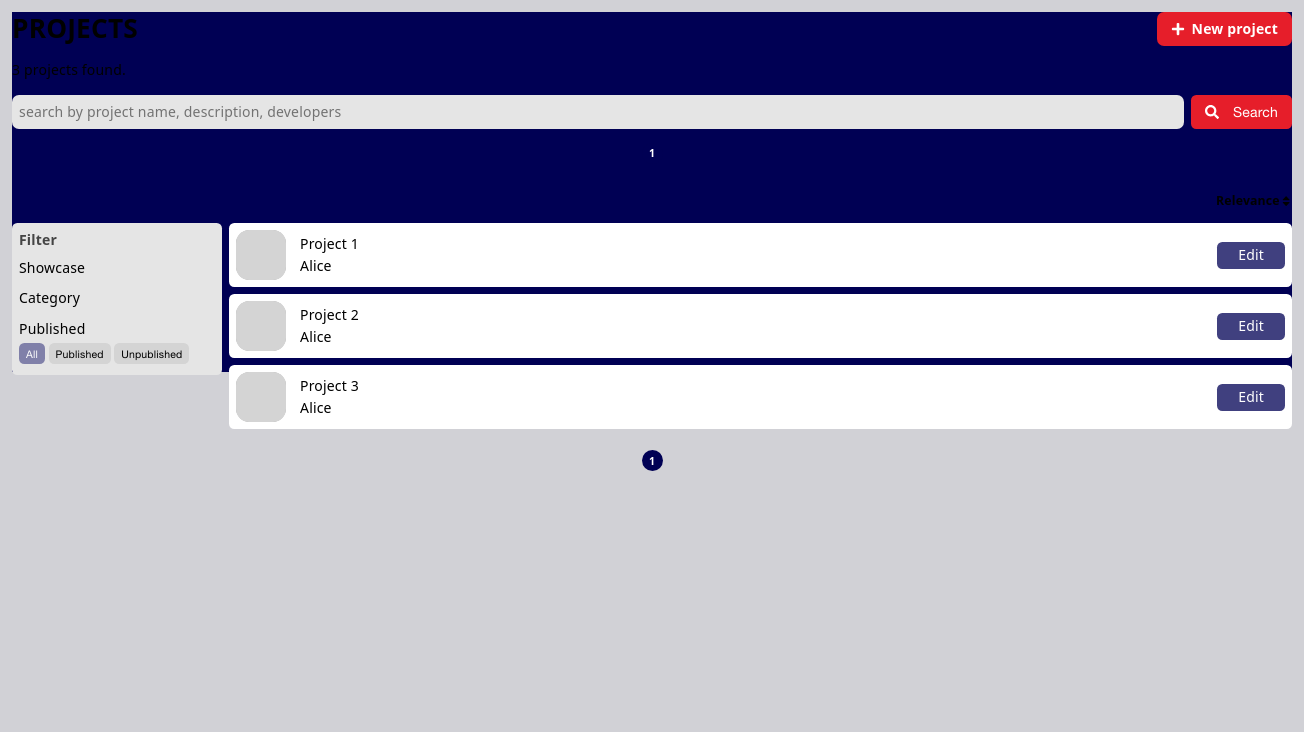
Test: ProjectList › searching › searches for the typed term and puts it in the address
Expected: the text "3 projects found." is shown, 12,60 -> 126,79
Type "maps" into the field.
click(598, 112); type("maps")  # box 12,95 -> 1184,129
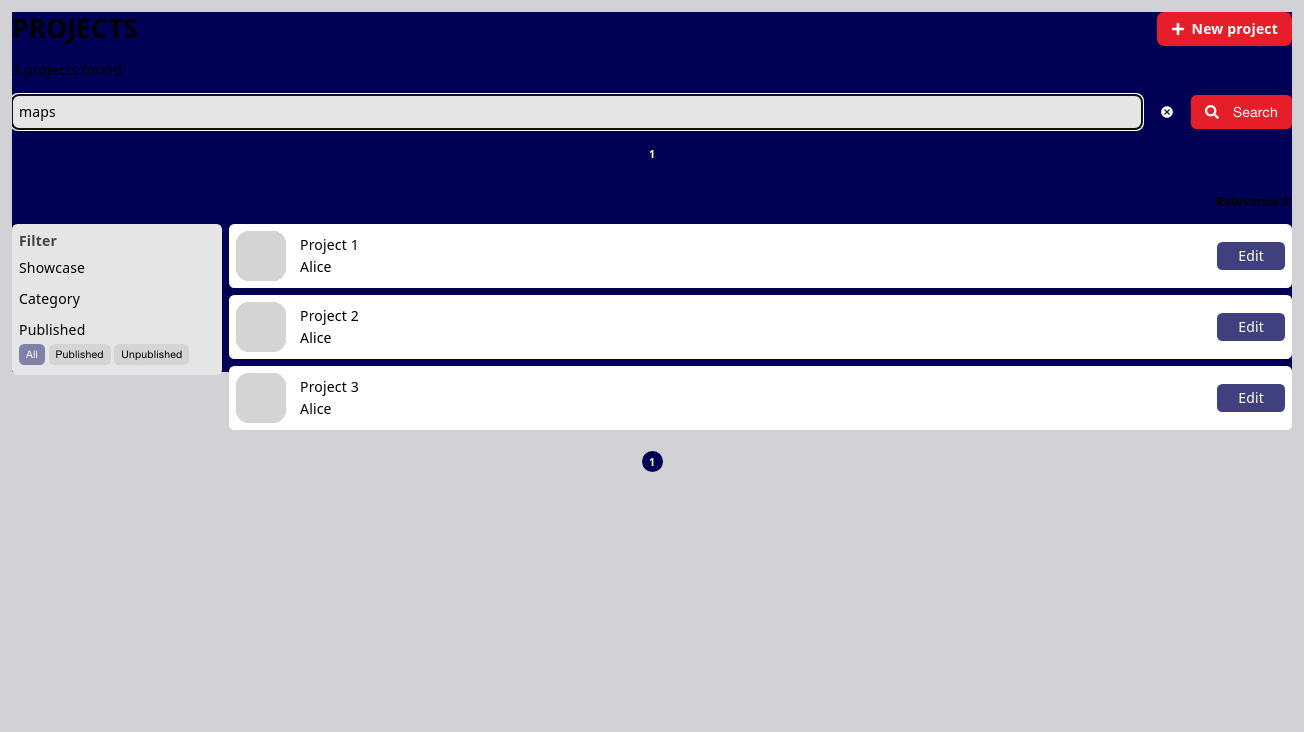
Click the button "Search".
click(1242, 112)  # box 1191,95 -> 1292,129
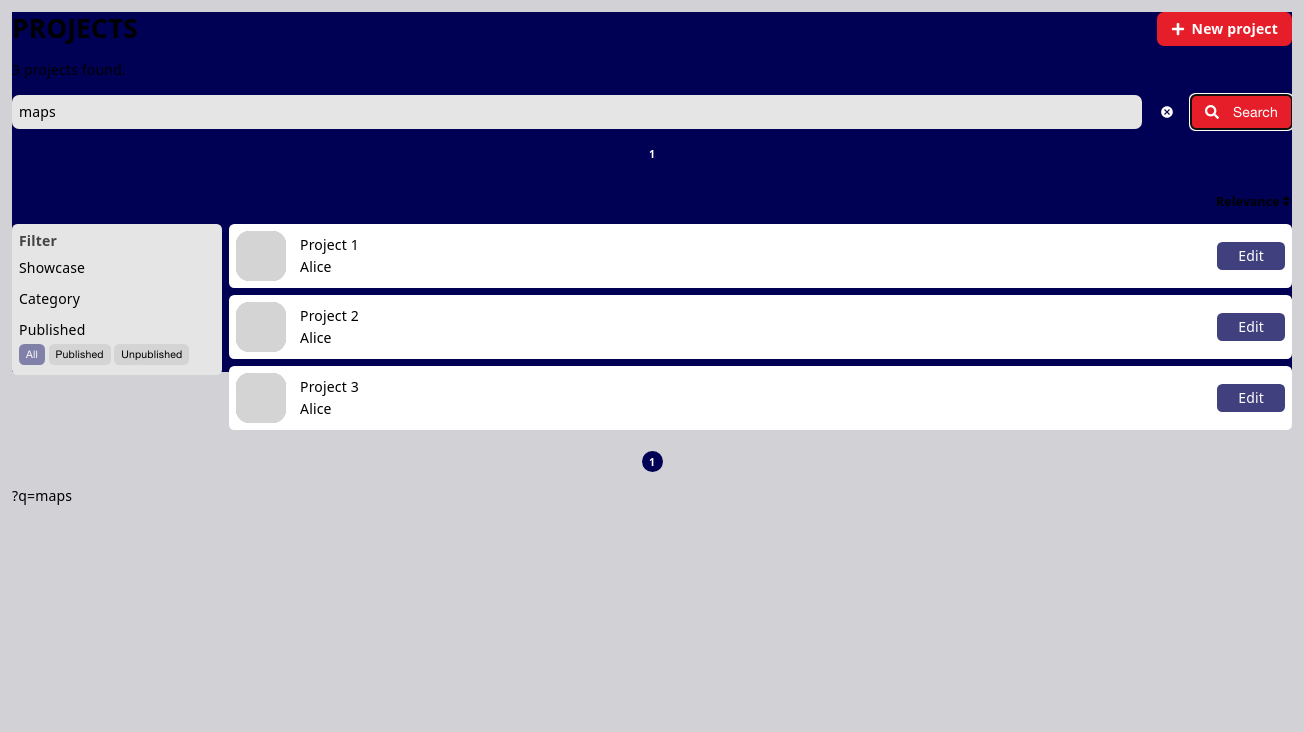
Expected: the text with test id "location" reads "?q=maps", 12,486 -> 72,505
